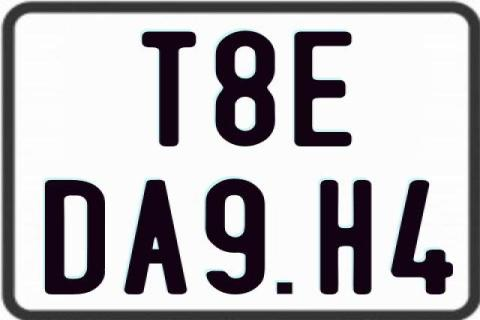0: (203, 178, 269, 298), (388, 180, 452, 296), (213, 30, 273, 146)
A: (123, 180, 186, 298)
D: (43, 178, 108, 294)
E: (291, 31, 351, 147)
H: (320, 180, 376, 298)
T: (140, 30, 200, 146)
